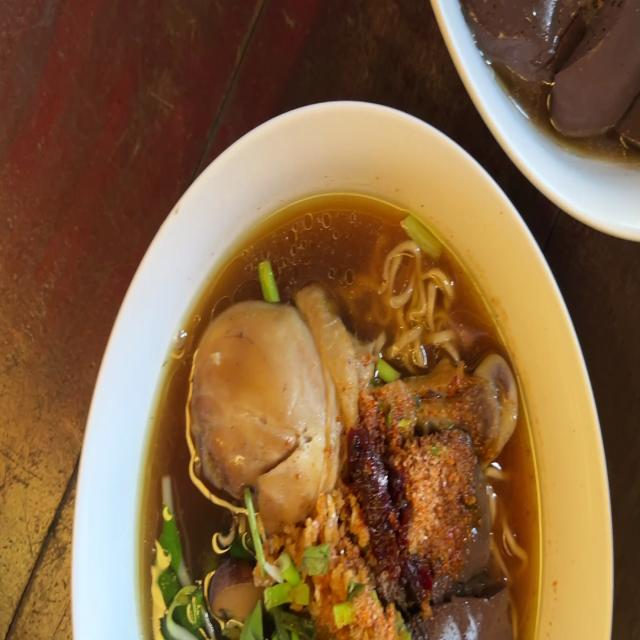noodle: (468, 0, 640, 138), (396, 587, 519, 640)
